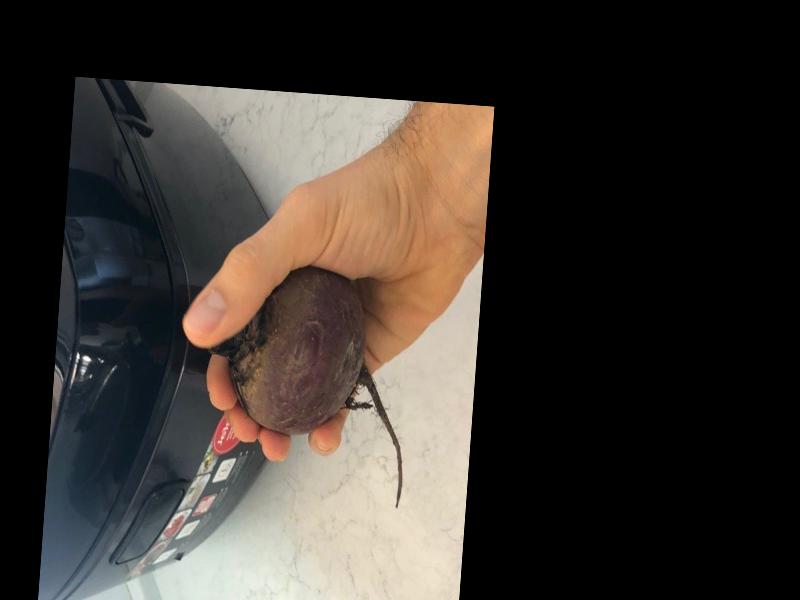Beet: (200, 260, 416, 508)
